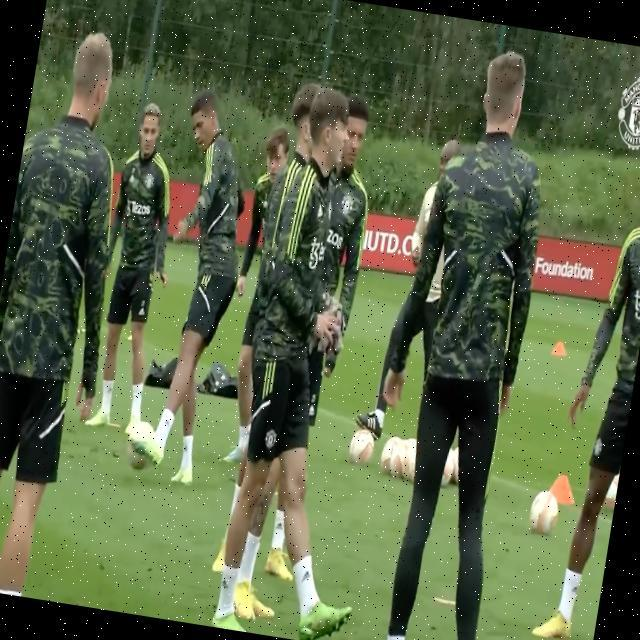Adidas: (300, 565, 313, 586), (316, 203, 327, 223), (220, 575, 231, 594)
